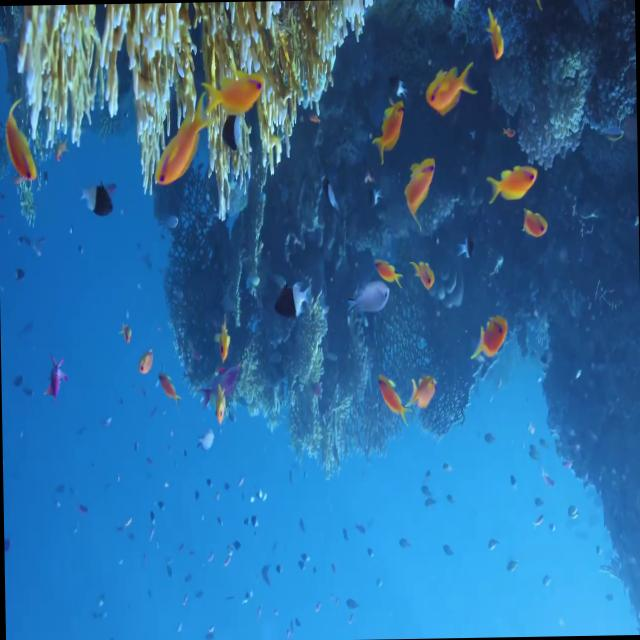fish: (151, 98, 211, 198), (0, 93, 45, 196), (388, 146, 442, 231), (200, 63, 275, 119), (420, 58, 478, 118), (368, 93, 410, 175), (456, 312, 509, 372), (270, 276, 322, 334), (368, 363, 407, 439), (482, 160, 538, 206), (404, 362, 444, 418), (80, 178, 122, 230), (368, 244, 406, 290), (518, 200, 550, 250), (218, 118, 252, 165), (410, 246, 440, 298), (206, 377, 231, 439), (212, 309, 240, 363), (347, 283, 389, 316), (45, 349, 70, 403), (157, 360, 181, 414), (456, 230, 478, 266), (136, 340, 156, 379)
